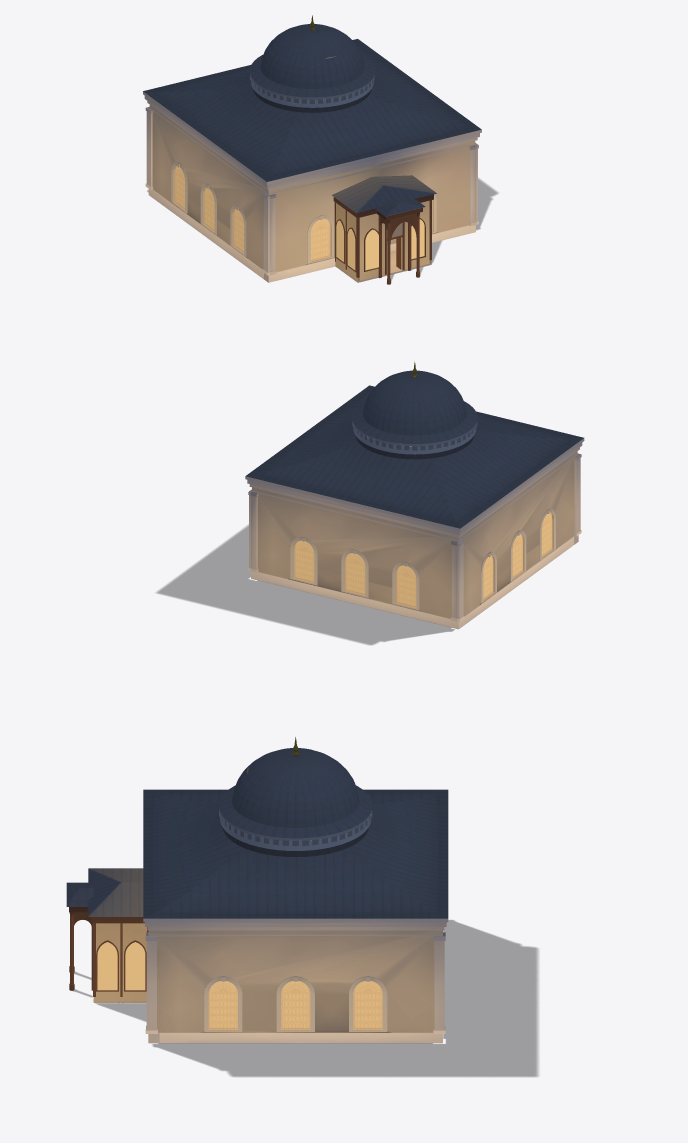
File: orhan-gazi-turbesi_v06_night_harita_pisik.glb
3 views of the same model, one above another, from view 1: azimuth 30°, elevation 25°; view 2: azimuth 150°, elevation 25°; view 3: azimuth 270°, elevation 25° (orthographic). The views are drawn at different scales.
Visible parts, largest first — view 1: Kubbe, Govde, Giris_Holu, Harita_Golge; view 2: Govde, Kubbe, Harita_Golge; view 3: Kubbe, Govde, Harita_Golge, Giris_Holu.
Boxes of the visible parts, bbox=[...] form: Kubbe: bbox=[143, 15, 481, 181]; Govde: bbox=[143, 91, 481, 282]; Giris_Holu: bbox=[332, 175, 436, 284]; Harita_Golge: bbox=[147, 178, 497, 282]; Govde: bbox=[245, 438, 584, 629]; Kubbe: bbox=[246, 361, 583, 528]; Harita_Golge: bbox=[156, 525, 454, 644]; Kubbe: bbox=[143, 737, 448, 918]; Govde: bbox=[143, 918, 448, 1043]; Harita_Golge: bbox=[72, 920, 538, 1076]; Giris_Holu: bbox=[66, 868, 148, 1002].
Bounding box in the file's own units: 31.86 × 15.5 × 37.86.
Materials: 2 (2 with a texture image).
